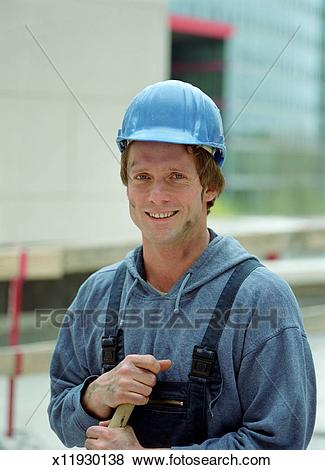Person_wearing_helmet: (110, 76, 237, 188)
